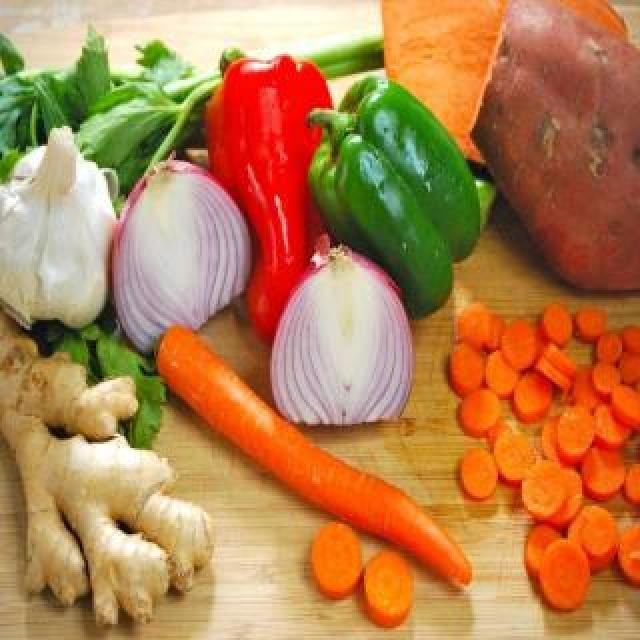bell_pepper: (309, 63, 483, 316), (205, 35, 325, 358)
carrot: (145, 321, 471, 590), (457, 307, 640, 625)
garlic: (1, 143, 111, 335)
onion: (265, 243, 414, 435), (113, 161, 252, 362)
potato: (475, 1, 640, 291)
